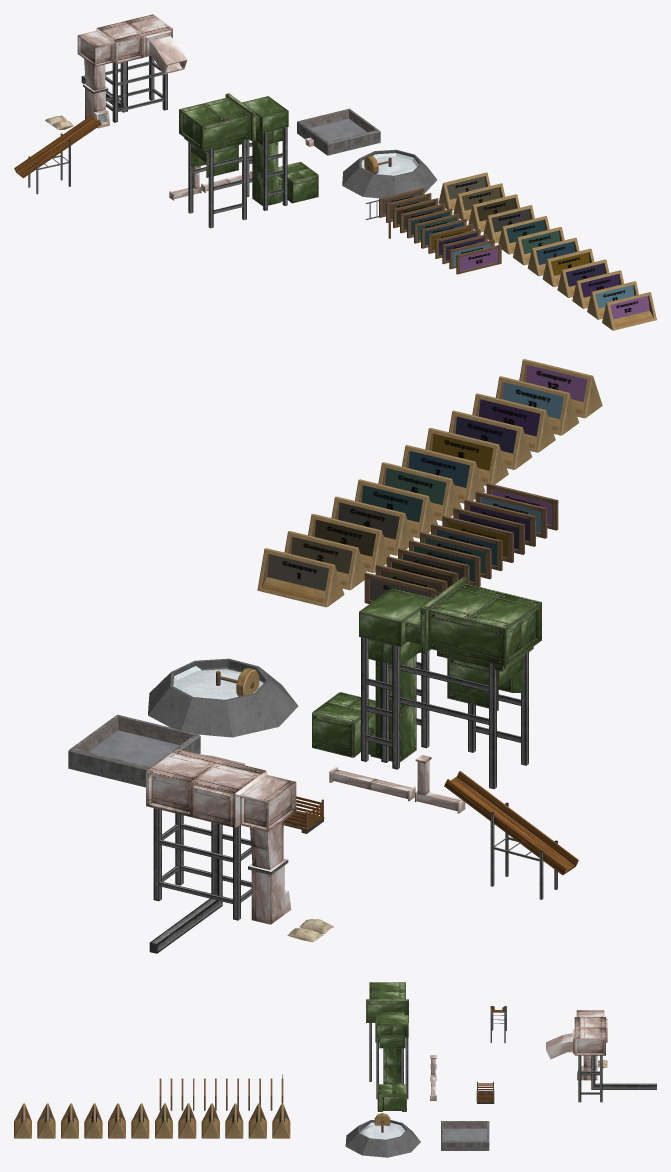
Rendered from Manika_Pano_Sys.FBX.
3 views of the same model, one above another, from view 1: azimuth 30°, elevation 25°; view 2: azimuth 150°, elevation 25°; view 3: azimuth 270°, elevation 25° (orthographic). The views are drawn at different scales.
Visible parts, largest first — view 1: Paket_Makinasi, Cuvallama_Makinasi, Havuz, Degiemen, Pano_B_012, Kizak, Pano_B_008, Pano_B_010, Pano_B_011, Pano_B_009, Pano_B_006, Pano_B_007 (+8 smaller); view 2: Paket_Makinasi, Cuvallama_Makinasi, Degiemen, Havuz, Pano_B_1, Kizak, Pano_B_011, Pano_B_012, Pano_B_010, Pano_B_009, Pano_B_002, Pano_B_008 (+22 smaller); view 3: Paket_Makinasi, Cuvallama_Makinasi, Degiemen, Havuz, Un_Zemin, Pano_B_009, Pano_B_011, Pano_B_005, Pano_B_007, Pano_B_1, Pano_B_003, Pano_B_004 (+6 smaller).
Boxes of the visible parts, bbox=[...] form: Paket_Makinasi: bbox=[179, 93, 318, 228]; Cuvallama_Makinasi: bbox=[77, 14, 187, 128]; Havuz: bbox=[297, 108, 380, 155]; Degiemen: bbox=[342, 149, 437, 198]; Pano_B_012: bbox=[602, 292, 656, 330]; Kizak: bbox=[14, 114, 101, 178]; Pano_B_008: bbox=[542, 248, 594, 287]; Pano_B_010: bbox=[572, 270, 623, 308]; Pano_B_011: bbox=[587, 281, 638, 319]; Pano_B_009: bbox=[557, 259, 609, 297]; Pano_B_006: bbox=[513, 227, 564, 265]; Pano_B_007: bbox=[527, 237, 579, 276]; Paket_Makinasi: bbox=[312, 577, 541, 788]; Cuvallama_Makinasi: bbox=[146, 749, 296, 953]; Degiemen: bbox=[148, 658, 298, 737]; Havuz: bbox=[68, 714, 200, 787]; Pano_B_1: bbox=[257, 548, 344, 607]; Kizak: bbox=[444, 771, 578, 875]; Pano_B_011: bbox=[495, 376, 578, 435]; Pano_B_012: bbox=[519, 359, 602, 418]; Pano_B_010: bbox=[472, 393, 555, 452]; Pano_B_009: bbox=[449, 410, 532, 469]; Pano_B_002: bbox=[284, 531, 365, 590]; Pano_B_008: bbox=[425, 428, 508, 485]; Paket_Makinasi: bbox=[366, 982, 408, 1111]; Cuvallama_Makinasi: bbox=[546, 1010, 656, 1102]; Degiemen: bbox=[345, 1120, 420, 1157]; Havuz: bbox=[441, 1121, 489, 1150]; Un_Zemin: bbox=[360, 1122, 405, 1139]; Pano_B_009: bbox=[84, 1103, 102, 1138]; Pano_B_011: bbox=[37, 1103, 55, 1138]; Pano_B_005: bbox=[178, 1103, 196, 1138]; Pano_B_007: bbox=[131, 1103, 149, 1138]; Pano_B_1: bbox=[272, 1103, 290, 1138]; Pano_B_003: bbox=[225, 1103, 243, 1138]; Pano_B_004: bbox=[201, 1103, 219, 1138].
Size of the model in its own units: 752 by 236 by 1565.
